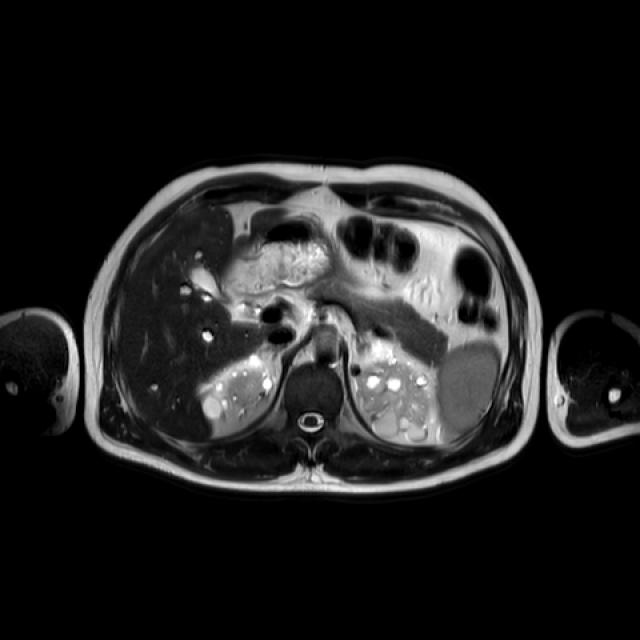sag: (200, 353, 275, 425)
sol: (356, 358, 431, 445)
